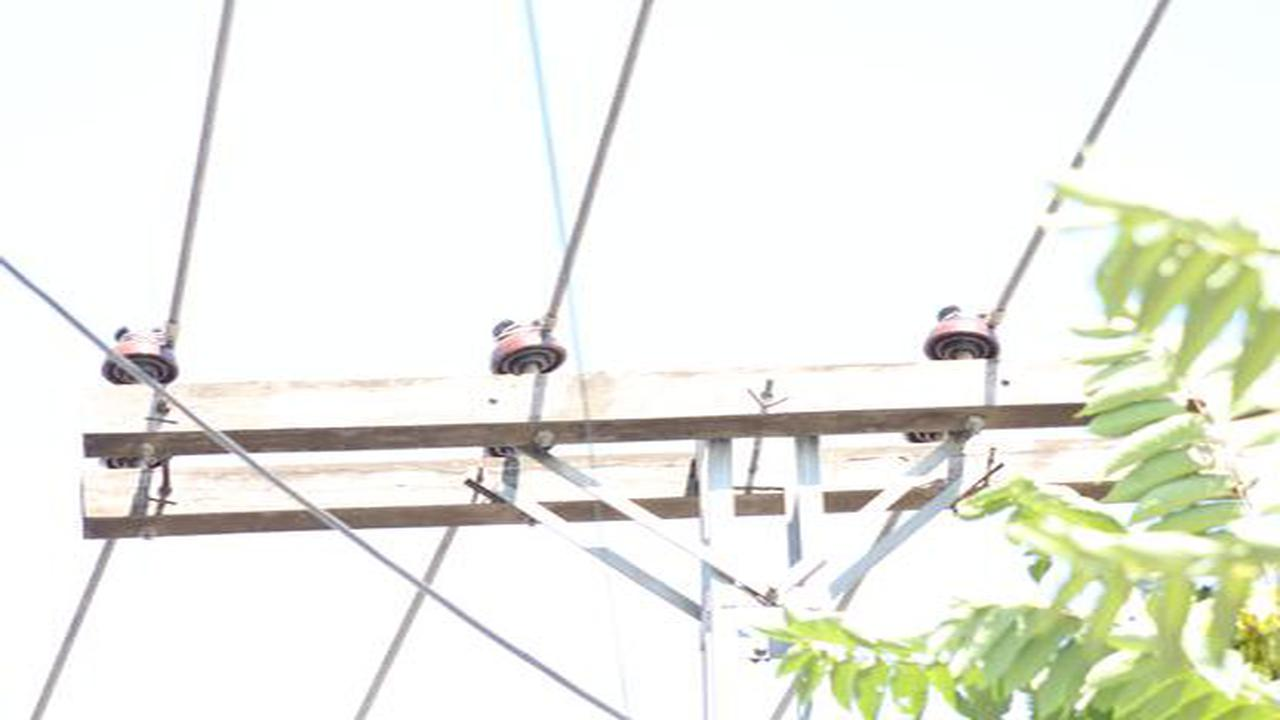insulator_pin: (918, 298, 1005, 364), (484, 311, 572, 376), (101, 321, 181, 385)
